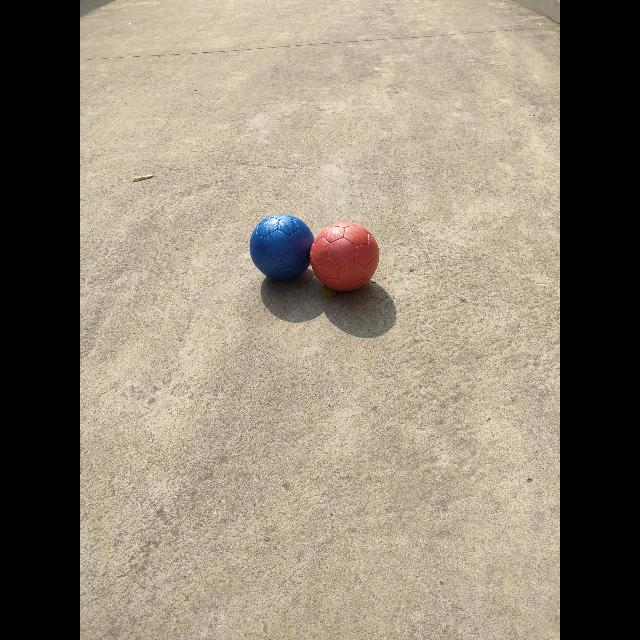B: (249, 214, 314, 281)
R: (310, 222, 380, 292)
